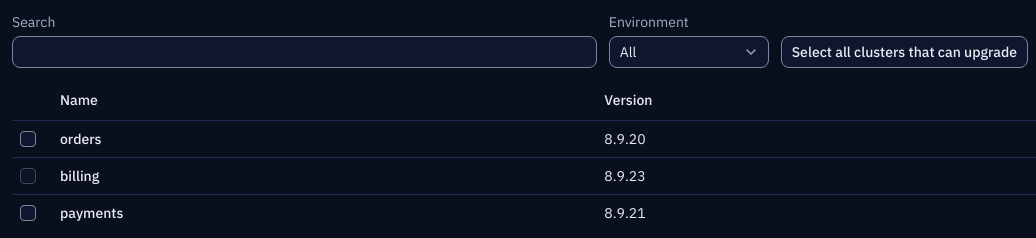
Test: DataTable › says so when no row matches
Type "zzz" into the search field labelled "Search" at (304, 52), box [12,36,597,68]
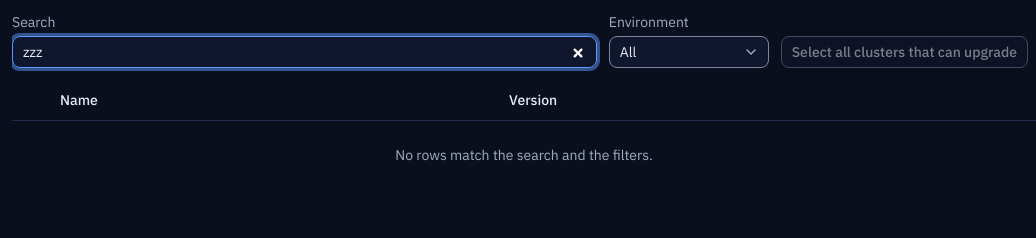
Result: the text "No rows match the search and the filters." is shown at [12,120,1035,188]
